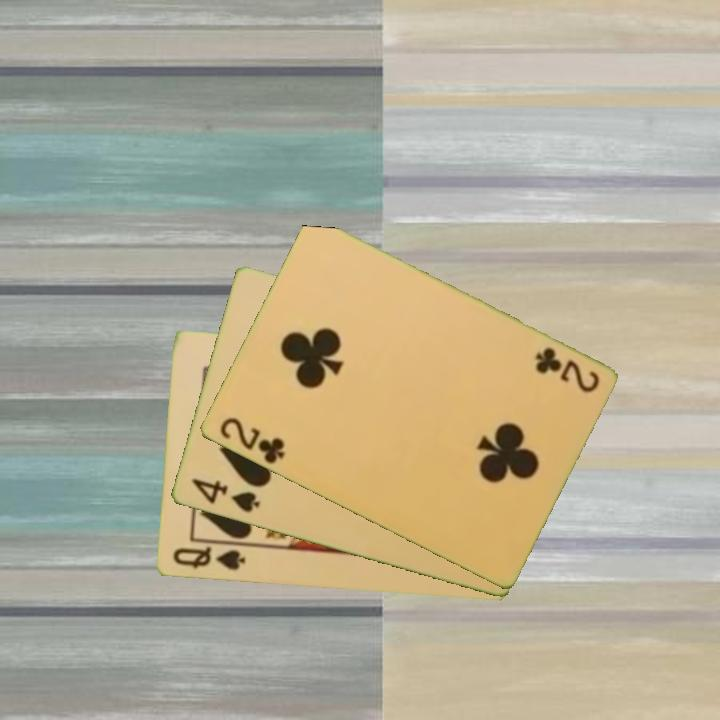2c: (215, 414, 287, 467), (530, 344, 602, 396)
4s: (187, 475, 263, 516)
Qs: (169, 543, 247, 574)
